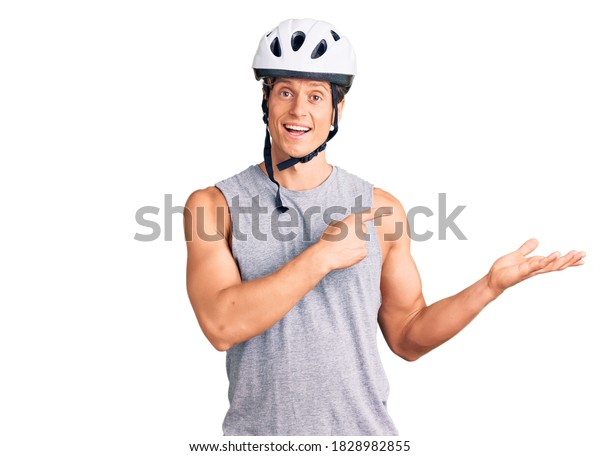helmet: (252, 18, 359, 159)
